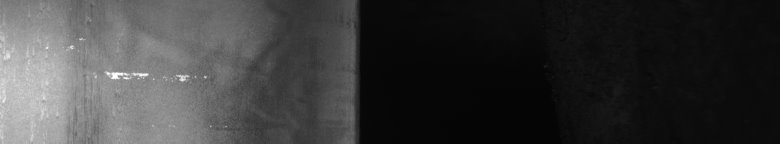hc: (46, 36, 240, 132)
